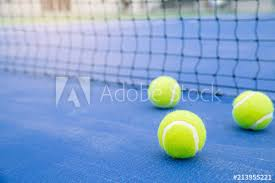tennis_ball: (157, 108, 207, 160), (231, 88, 275, 131), (147, 75, 180, 109)
